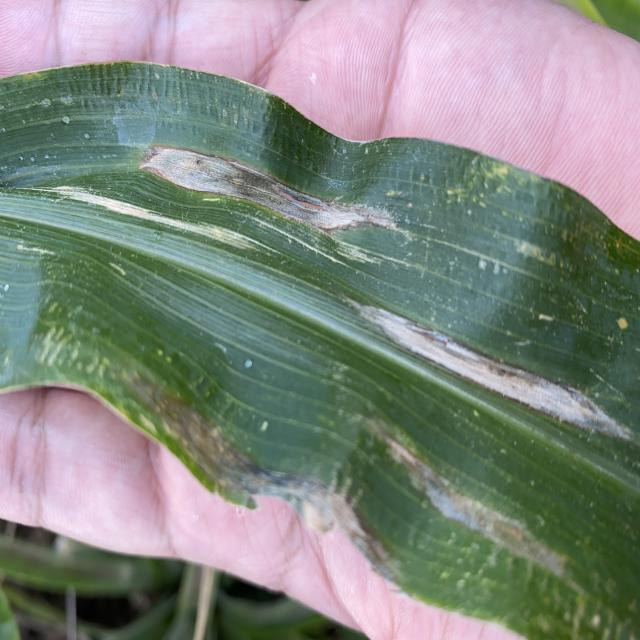Corn_Leaf_Blight: (19, 80, 640, 604)
